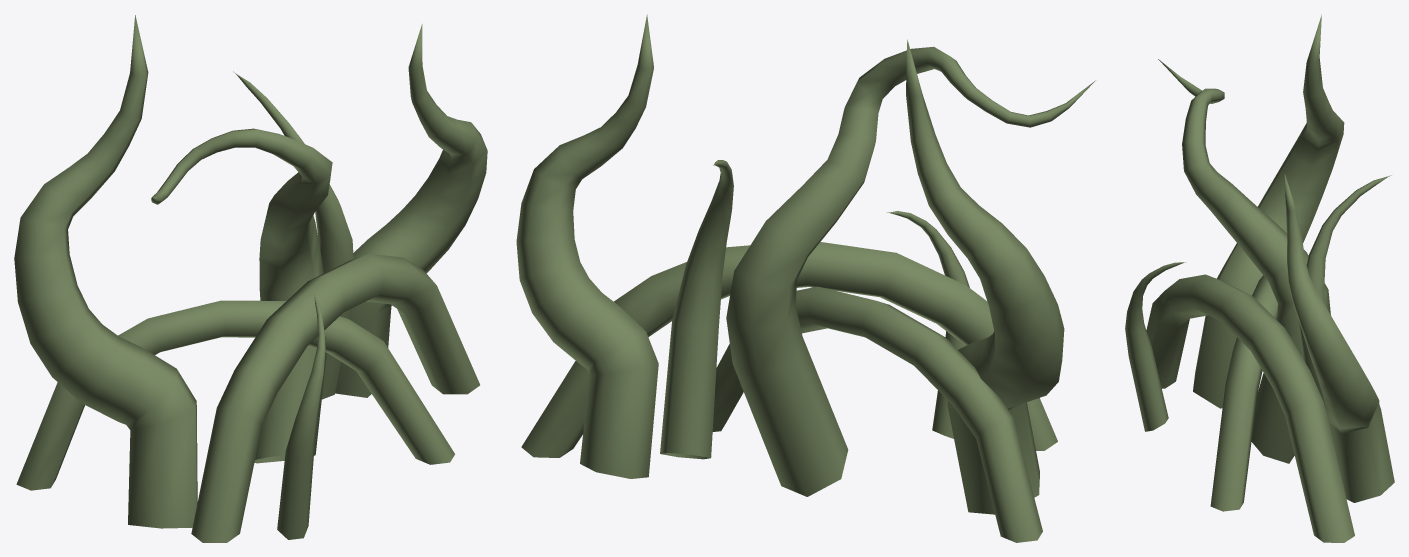
File: ronce1.FBX
3 views of the same model, side by side, from view 1: azimuth 30°, elevation 25°; view 2: azimuth 150°, elevation 25°; view 3: azimuth 270°, elevation 25° (orthographic). The views are drawn at different scales.
Visible parts, largest first — view 1: Object003; view 2: Object003; view 3: Object003.
Boxes of the visible parts, bbox=[...] form: Object003: bbox=[14, 15, 487, 542]; Object003: bbox=[516, 14, 1095, 542]; Object003: bbox=[1125, 14, 1394, 542].
Size of the model in its own units: 228 by 214 by 131.
